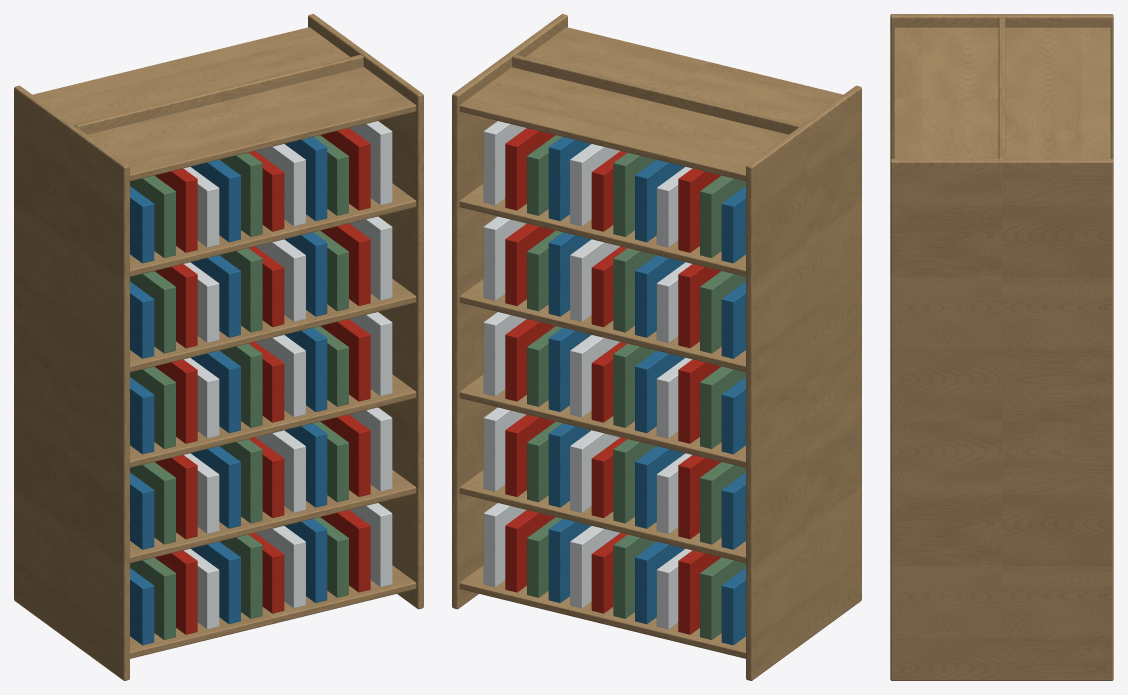
The model's file is library-shelf.glb.
3 views of the same model, side by side, from view 1: azimuth 30°, elevation 25°; view 2: azimuth 150°, elevation 25°; view 3: azimuth 270°, elevation 25° (orthographic).
Visible parts, largest first — view 1: Shelving side, Shelf board.005, Shelving side.001, Central divider, Shelf board.004, Shelf board.002, Shelf board.003, Shelf board, Shelf board.001, Original unlabelled library book.035, Original unlabelled library book.083, Original unlabelled library book.011 (+57 smaller); view 2: Shelving side, Shelf board.005, Shelving side.001, Central divider, Shelf board.004, Shelf board.002, Shelf board.003, Shelf board, Shelf board.001, Original unlabelled library book.047, Original unlabelled library book.095, Original unlabelled library book.023 (+57 smaller); view 3: Shelving side.001, Shelf board.005, Shelving side, Central divider.
Boxes of the visible parts, bbox=[...] form: Shelving side: bbox=[14, 85, 129, 680]; Shelf board.005: bbox=[32, 27, 416, 181]; Shelving side.001: bbox=[308, 14, 423, 609]; Central divider: bbox=[74, 54, 363, 134]; Shelf board.004: bbox=[130, 183, 416, 276]; Shelf board.002: bbox=[130, 374, 416, 467]; Shelf board.003: bbox=[130, 279, 416, 372]; Shelf board: bbox=[130, 565, 416, 658]; Shelf board.001: bbox=[130, 470, 416, 563]; Original unlabelled library book.035: bbox=[349, 407, 392, 491]; Original unlabelled library book.083: bbox=[349, 216, 392, 300]; Original unlabelled library book.011: bbox=[349, 503, 392, 587]; Shelving side: bbox=[746, 85, 861, 680]; Shelf board.005: bbox=[459, 27, 843, 181]; Shelving side.001: bbox=[452, 14, 567, 609]; Central divider: bbox=[512, 54, 801, 134]; Shelf board.004: bbox=[459, 183, 745, 276]; Shelf board.002: bbox=[459, 374, 745, 467]; Shelf board.003: bbox=[459, 279, 745, 372]; Shelf board: bbox=[459, 565, 745, 658]; Shelf board.001: bbox=[459, 470, 745, 563]; Original unlabelled library book.047: bbox=[483, 407, 526, 491]; Original unlabelled library book.095: bbox=[483, 216, 526, 300]; Original unlabelled library book.023: bbox=[483, 503, 526, 587]; Shelving side.001: bbox=[890, 159, 1113, 680]; Shelf board.005: bbox=[893, 27, 1110, 158]; Shelving side: bbox=[890, 14, 1113, 159]; Central divider: bbox=[998, 17, 1005, 158].
Bounding box in the file's own units: 1.1 × 1.8 × 0.7.
5 materials, 5 textured.
